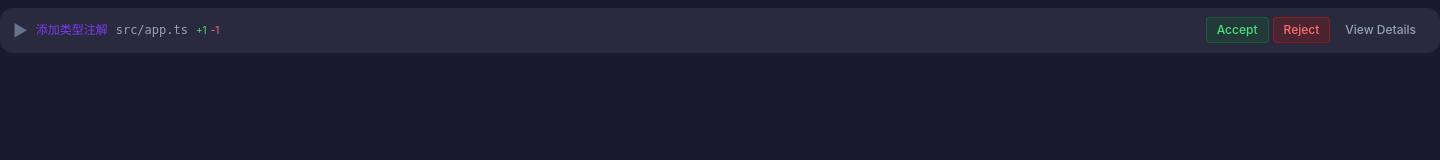
Scenario: DiffCard › 点击 View Details 应切换展开状态
Click the button "View Details": [1381, 30] box left=1334, top=17, right=1427, bottom=43
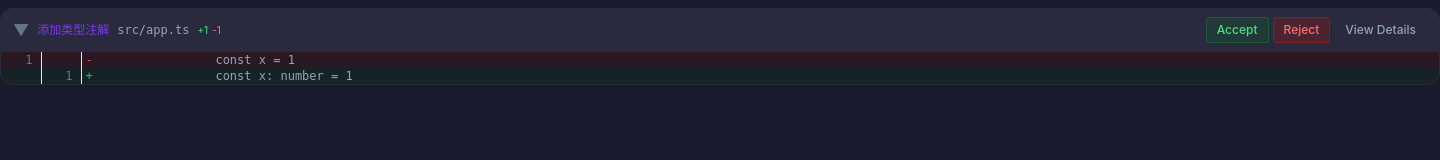
Expected: the button "▼" is shown, left=13, top=18, right=29, bottom=42
